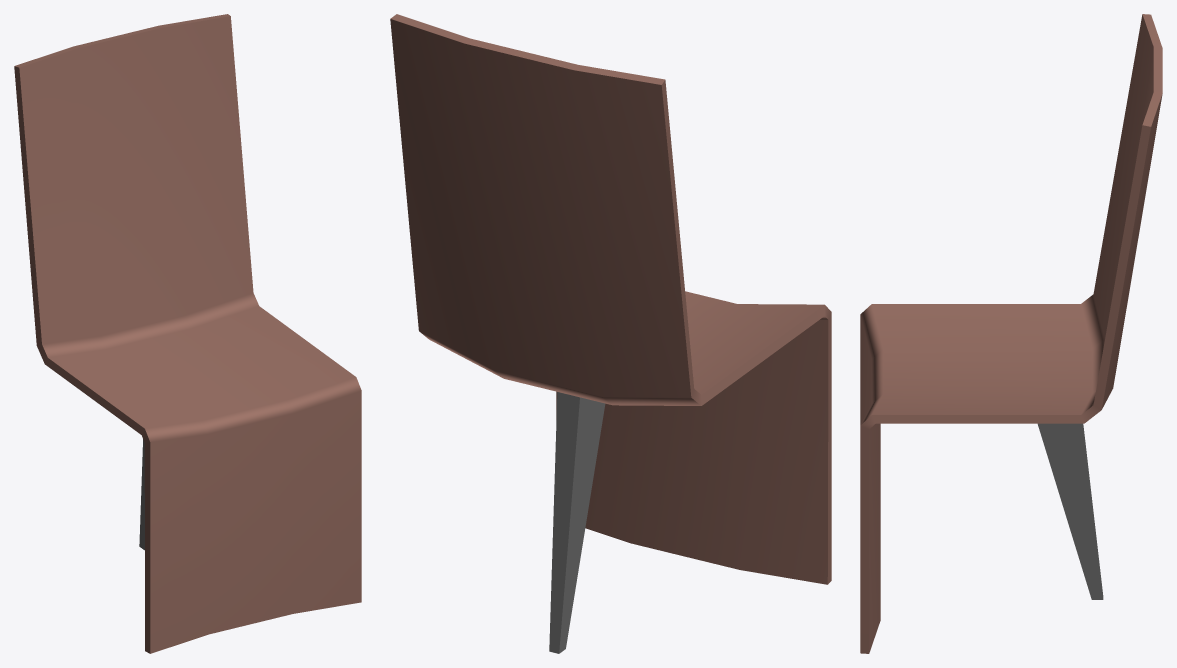
Rendered from kitchen_chair_019.glb.
The picture shows the model from 3 angles, left to right: view 1: azimuth 30°, elevation 25°; view 2: azimuth 150°, elevation 25°; view 3: azimuth 270°, elevation 25°; orthographic projection. The views are drawn at different scales.
Visible parts, largest first — view 1: kitchen_chair_019; view 2: kitchen_chair_019; view 3: kitchen_chair_019.
Part boxes in pixels (<box>): kitchen_chair_019: <box>14,14,361,653</box>; kitchen_chair_019: <box>390,14,831,653</box>; kitchen_chair_019: <box>860,14,1162,653</box>.
Bounding box in the file's own units: 0.5565 × 1.21 × 0.6301.
Materials: 1 (1 with a texture image).
